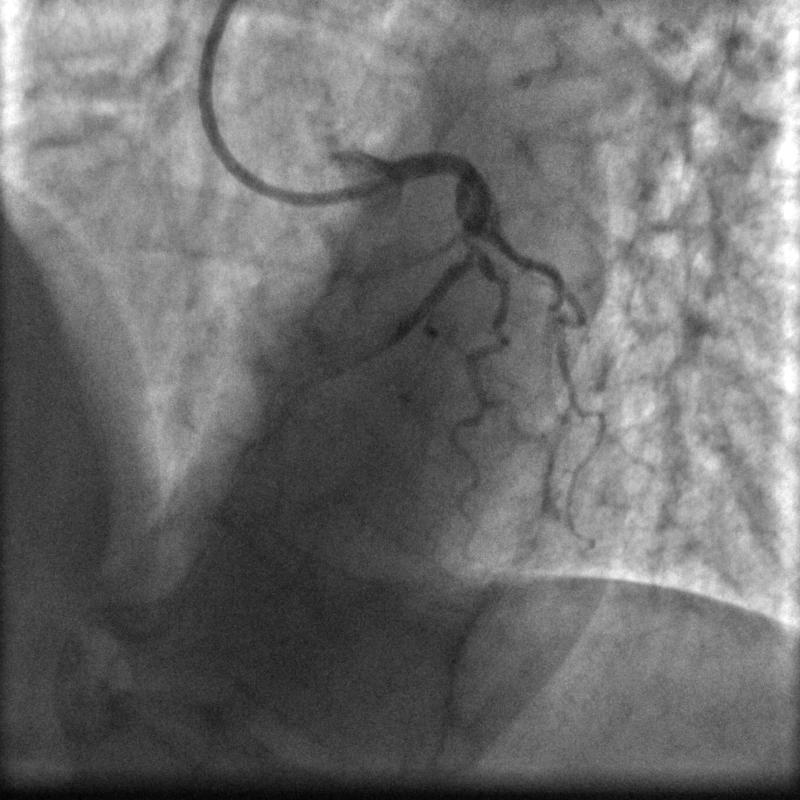Stenosis: (464, 232, 487, 263)
